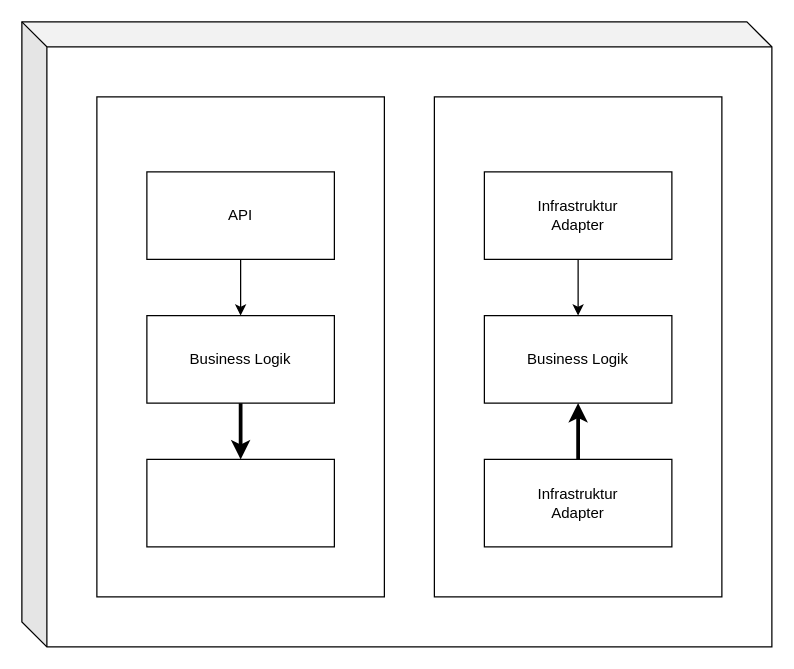
This 794x669 diagram has some shape labels left out. Here are the shapes that lost their labels. From the top down, the box of each, then its label:
(96, 96, 384, 597): Layers
(433, 96, 722, 597): Onion / Hex
(146, 458, 334, 547): Persistenz
